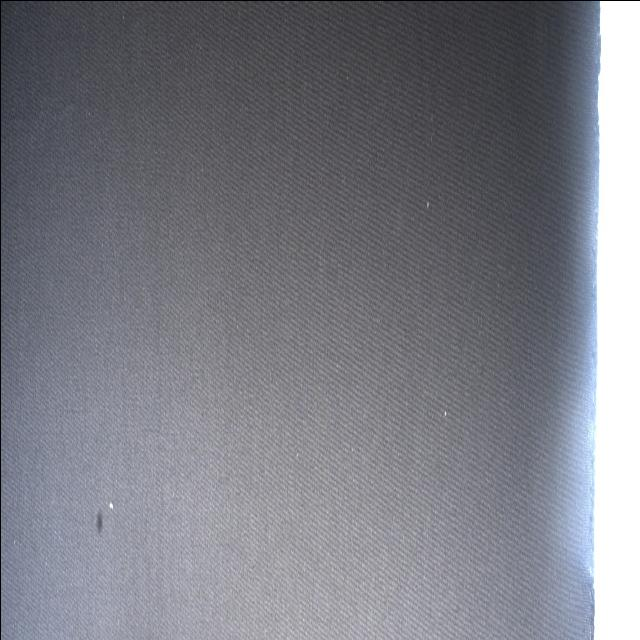whiteDefect: (108, 496, 114, 513), (442, 404, 447, 422), (426, 197, 429, 213), (430, 113, 433, 126)
